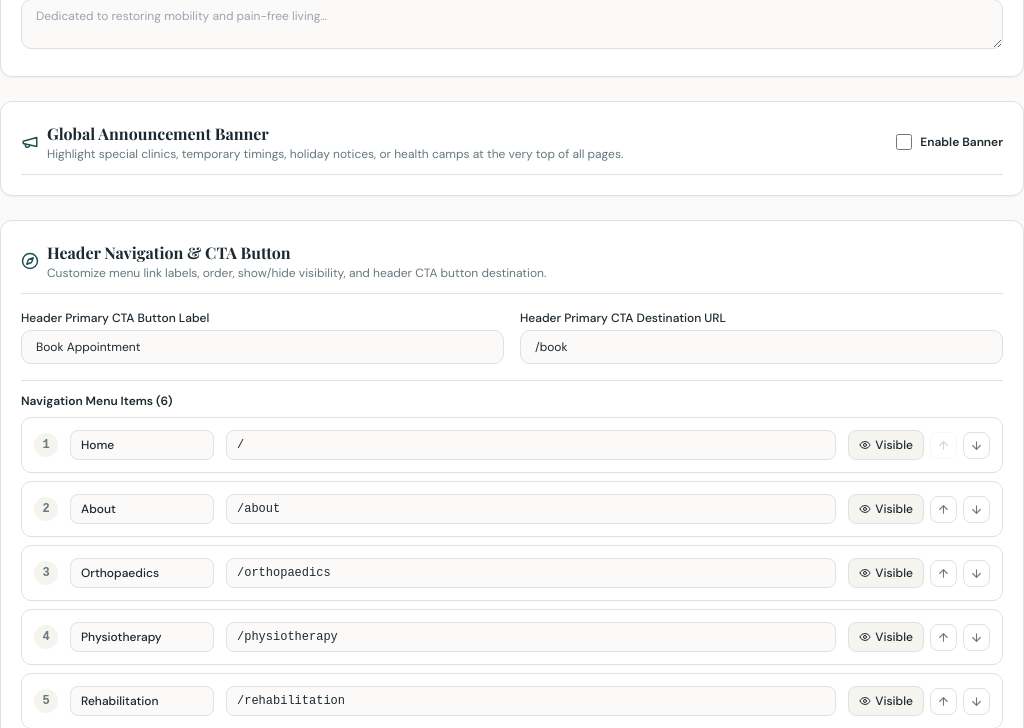
it: Branding draft workflow (005c, scope 'branding') › BRAND-03: an unsafe header link is stopped before submission
The image size is (1024, 728).
(page scrolled)
Type "javascript:alert(1)" into the field labelled "Header Primary CTA Destination URL" at (762, 347), box [520,330,1003,364]
(page scrolled)
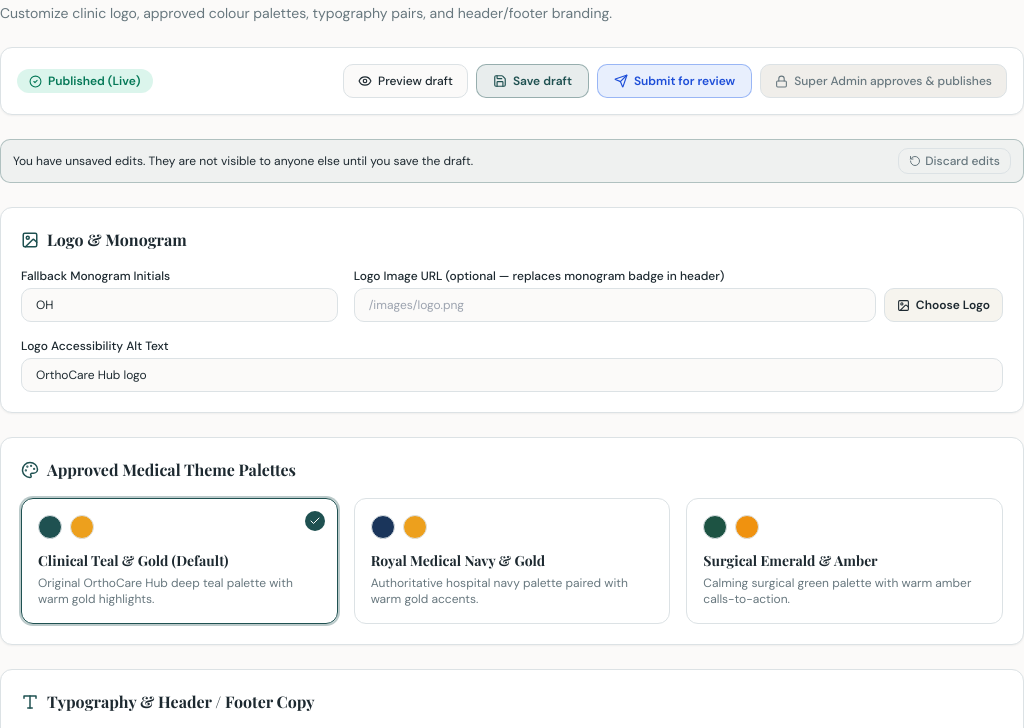
Click the button "Submit for review" at (675, 81), box [597,64,752,98]
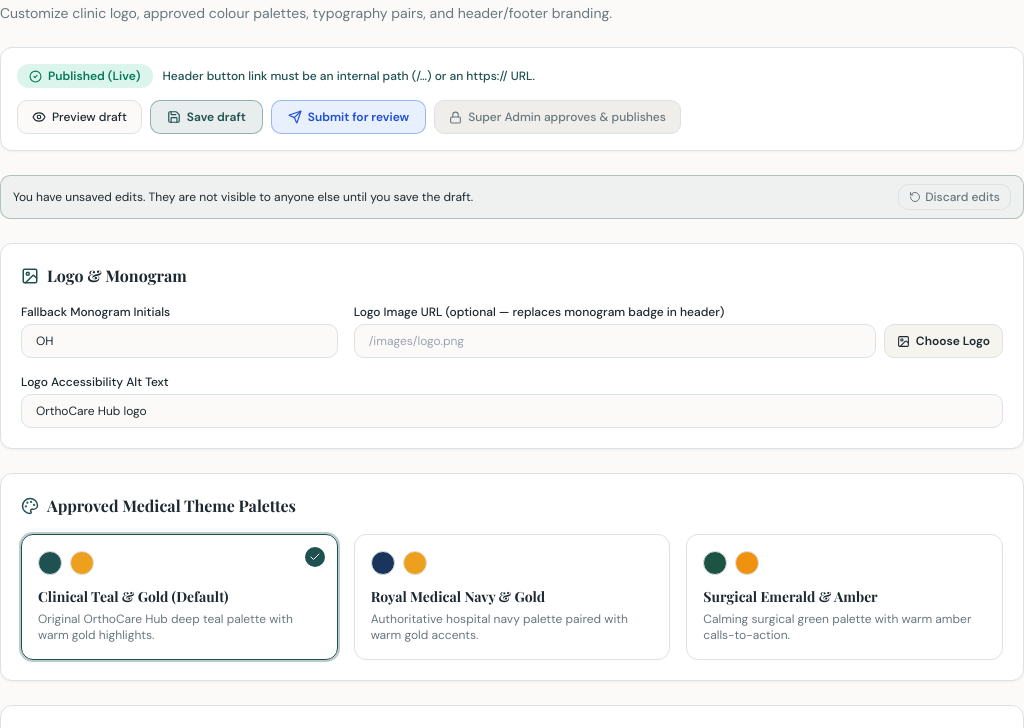
Expected: the text "Header button link must be an internal path (/…) or an https:// URL." is shown, [162,68,535,84]
